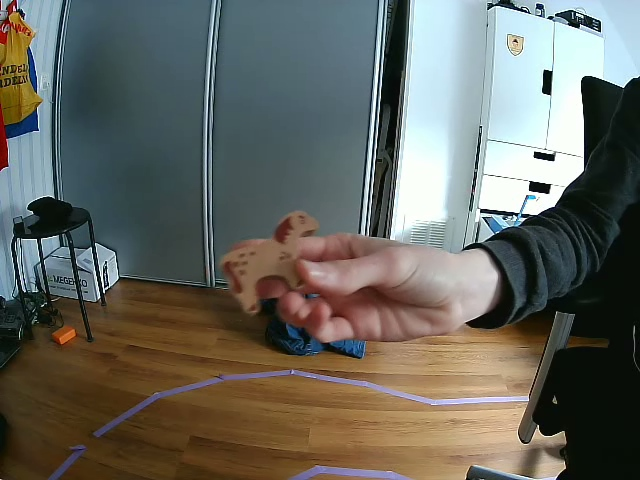paard: (222, 209, 320, 317)
